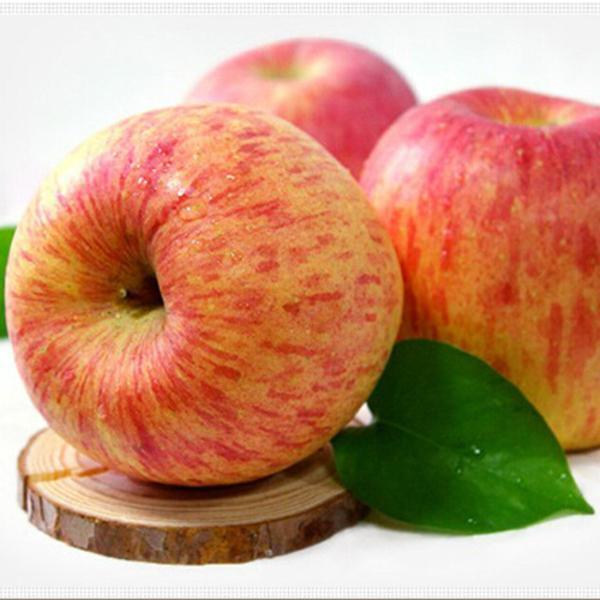apple: (5, 84, 513, 491), (360, 90, 597, 447), (182, 34, 414, 181)
